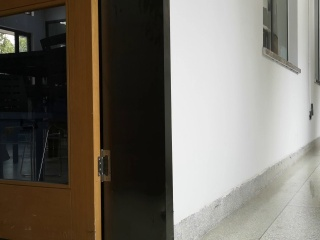room: (1, 1, 176, 240)
